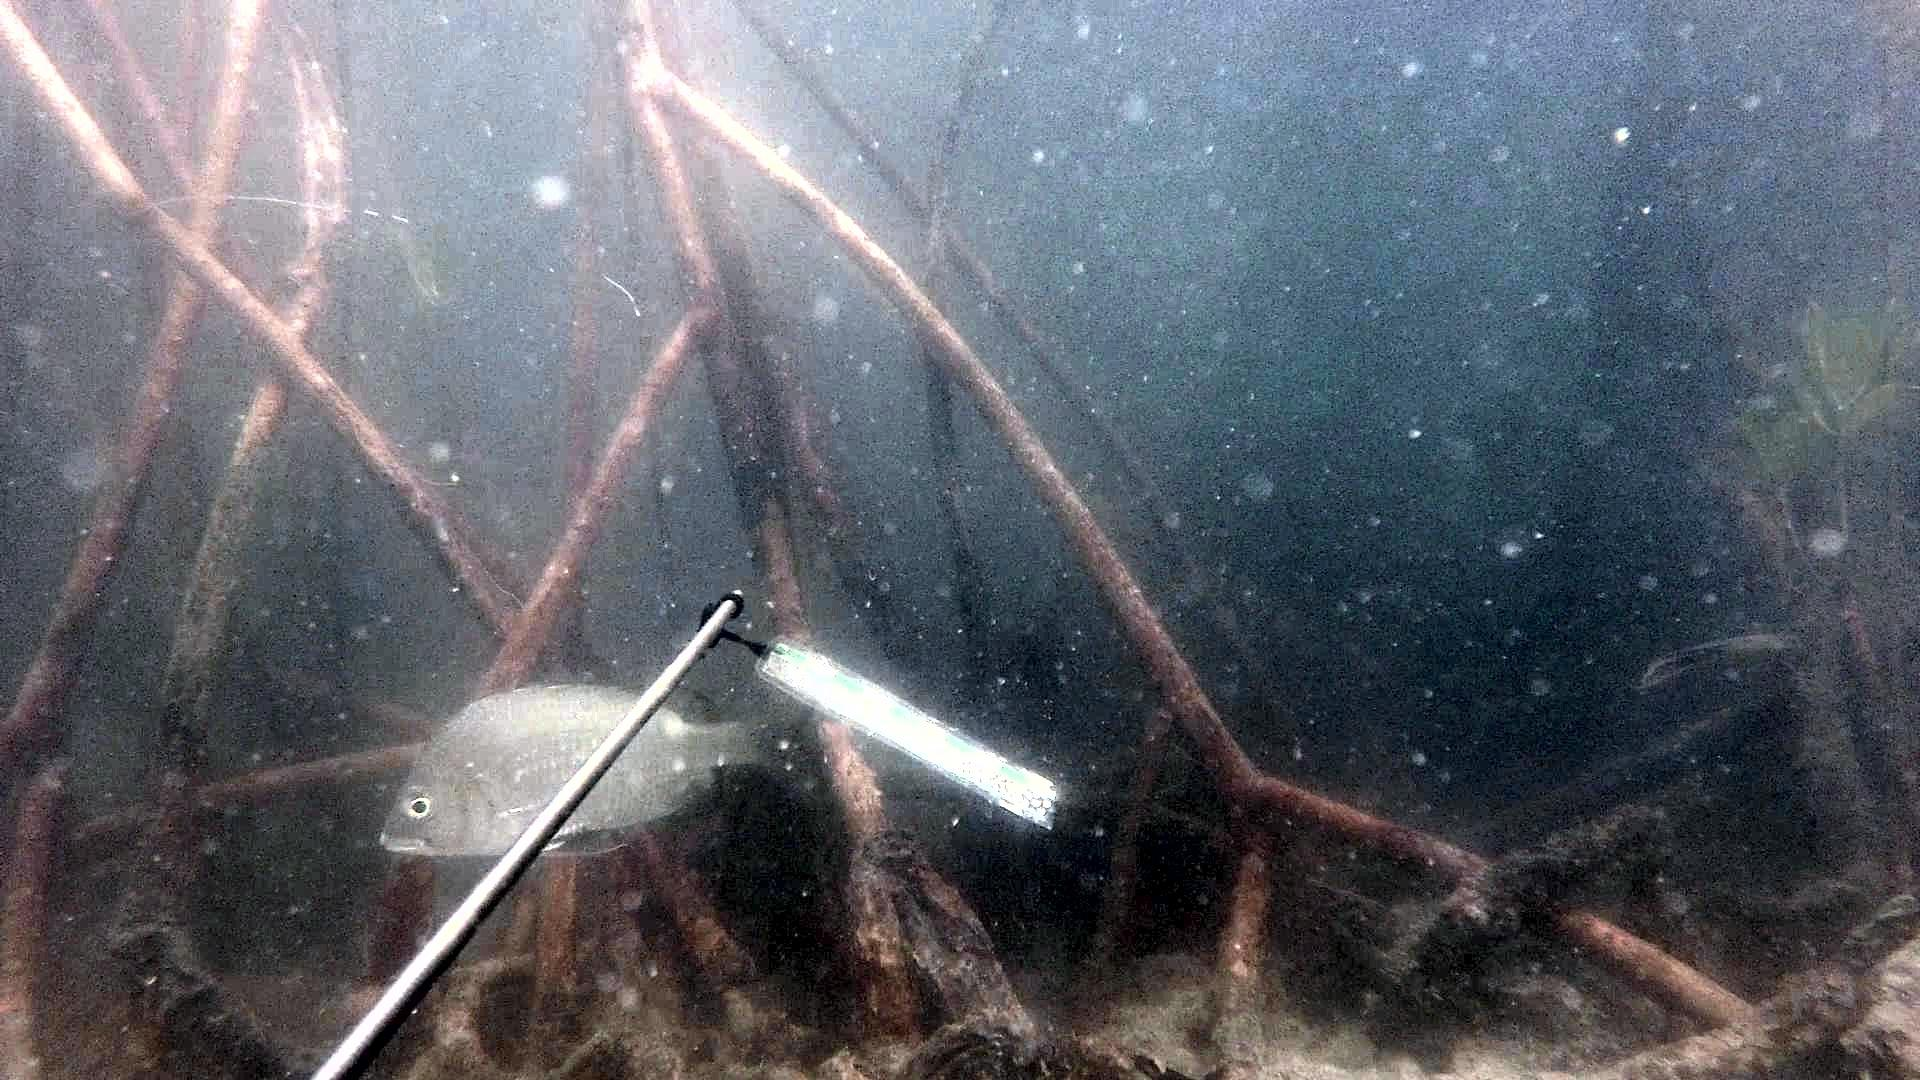acanthopagrus palmaris: (371, 669, 832, 877)
